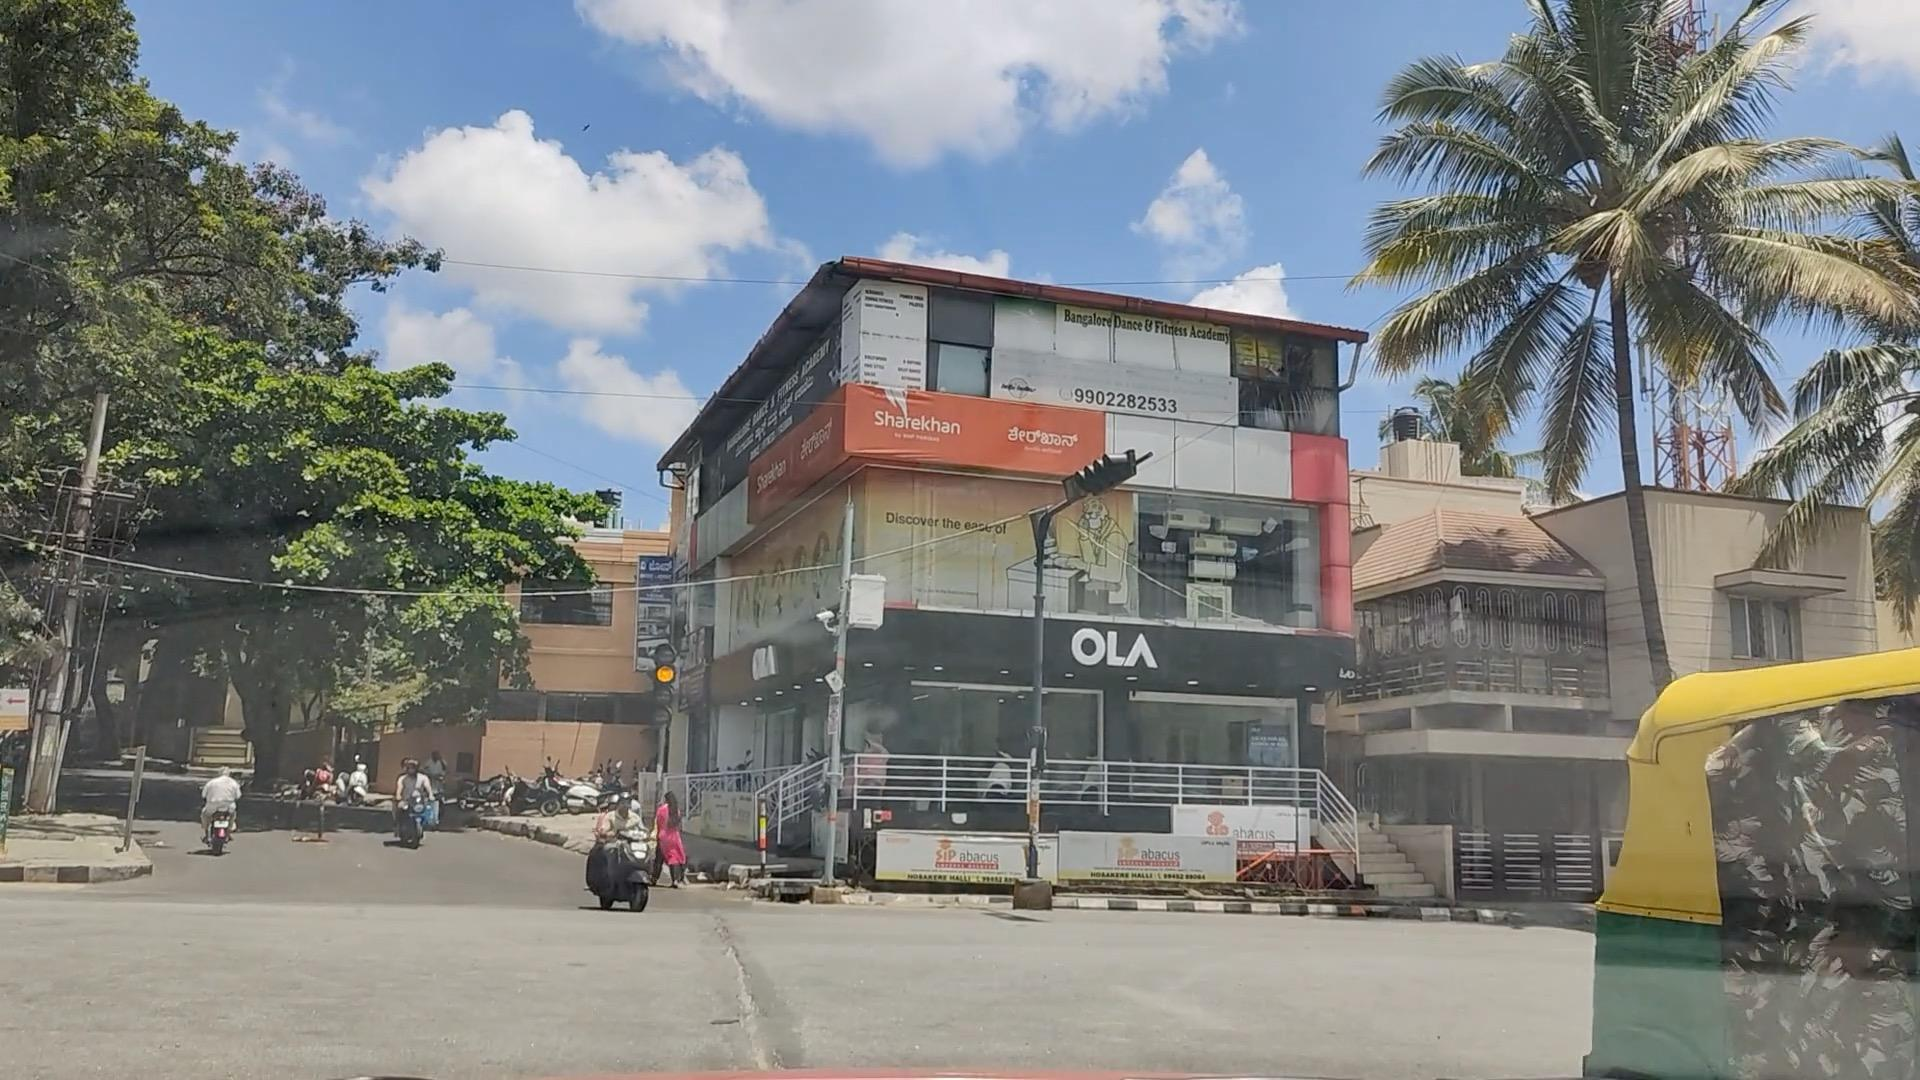RoadDamages: (703, 893, 789, 1080)
